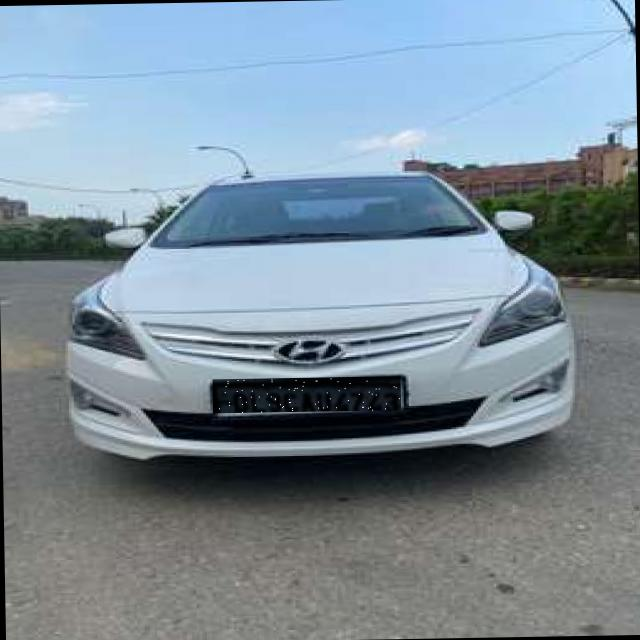Plate: (213, 377, 402, 414)
